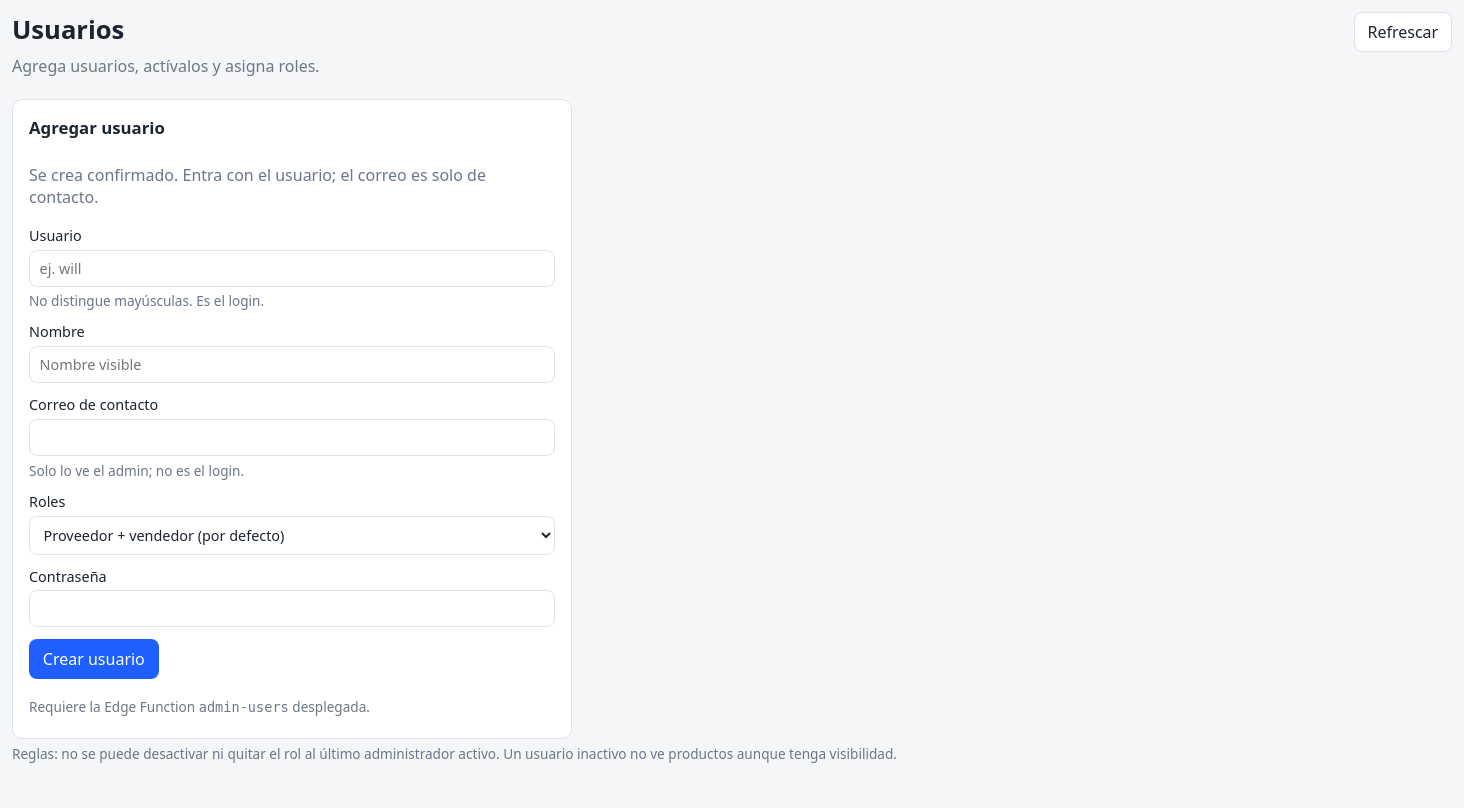
Test: AdminUsuarios.crearUsuario › muestra el detalle de un FunctionsHttpError
The image size is (1464, 808).
Expected: the heading "Agregar usuario" is shown, [29,116,165,139]
Type "will4" into the field labelled "Usuario No distingue mayúsculas. Es el login." at (292, 268), box [29,250,555,287]
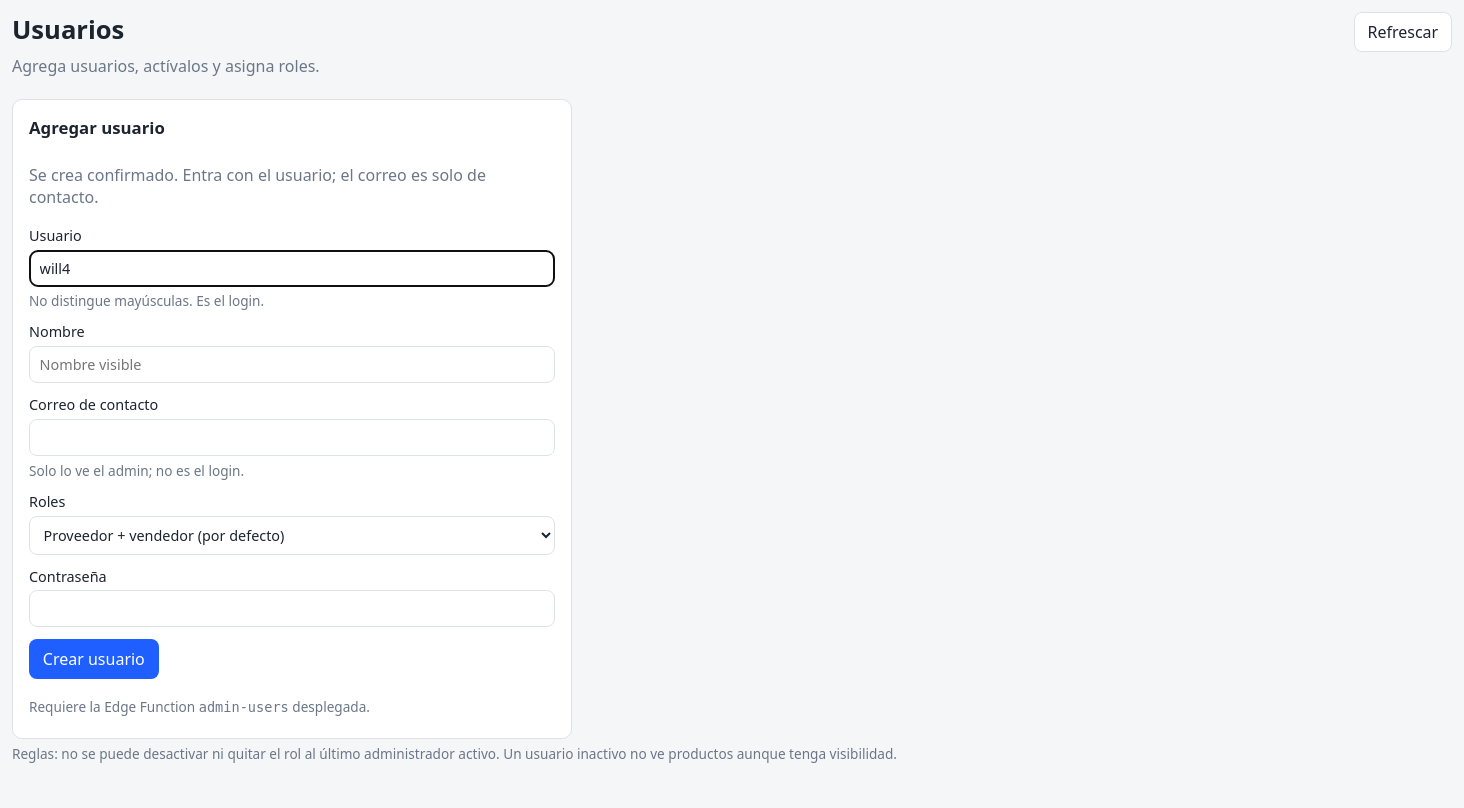
Type "Will Cuatro" into the field labelled "Nombre" at (292, 365), box [29,346,555,383]
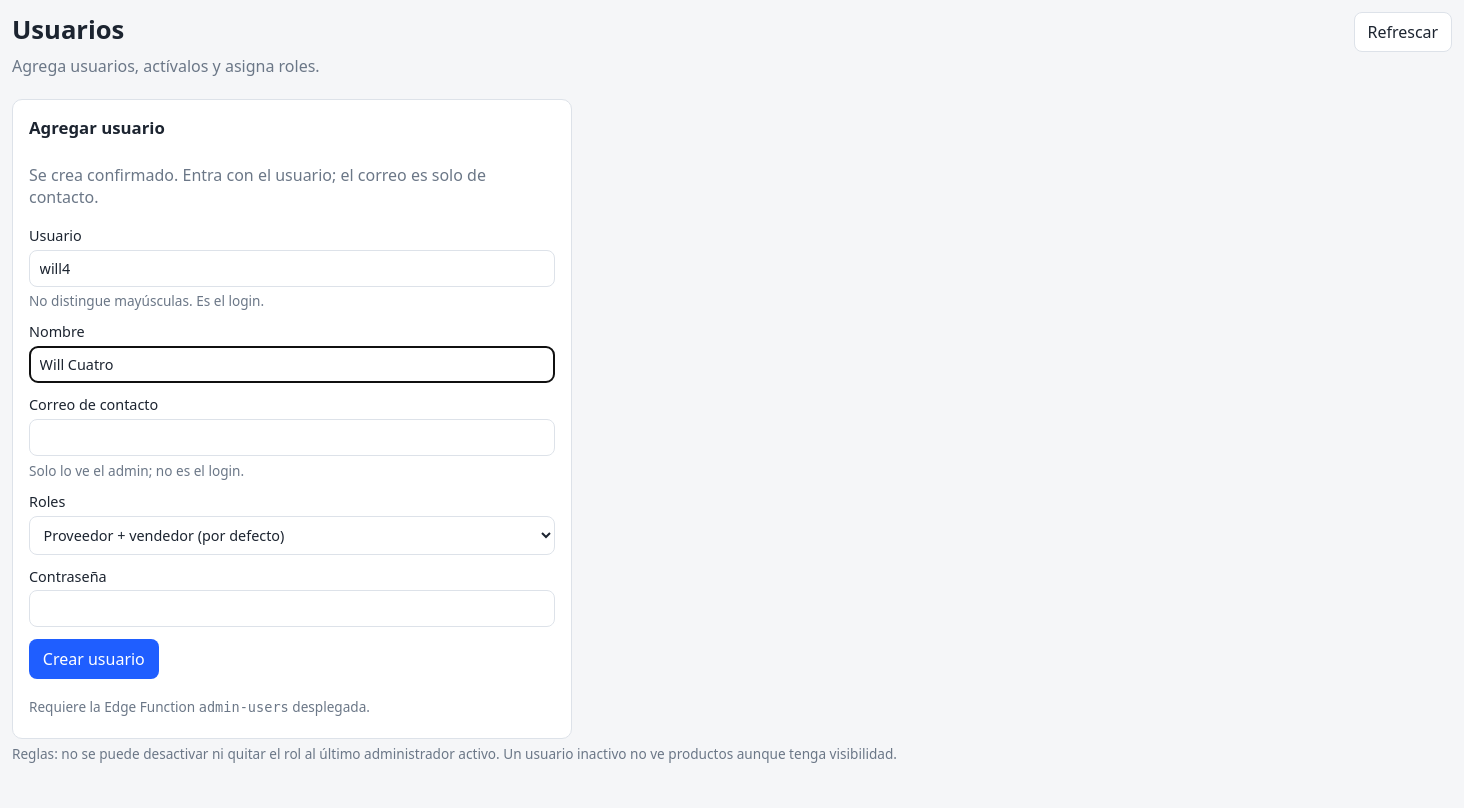
Type "will4@example.com" into the field labelled "Correo de contacto Solo lo ve el admin; no es el login." at (292, 438), box [29,419,555,456]
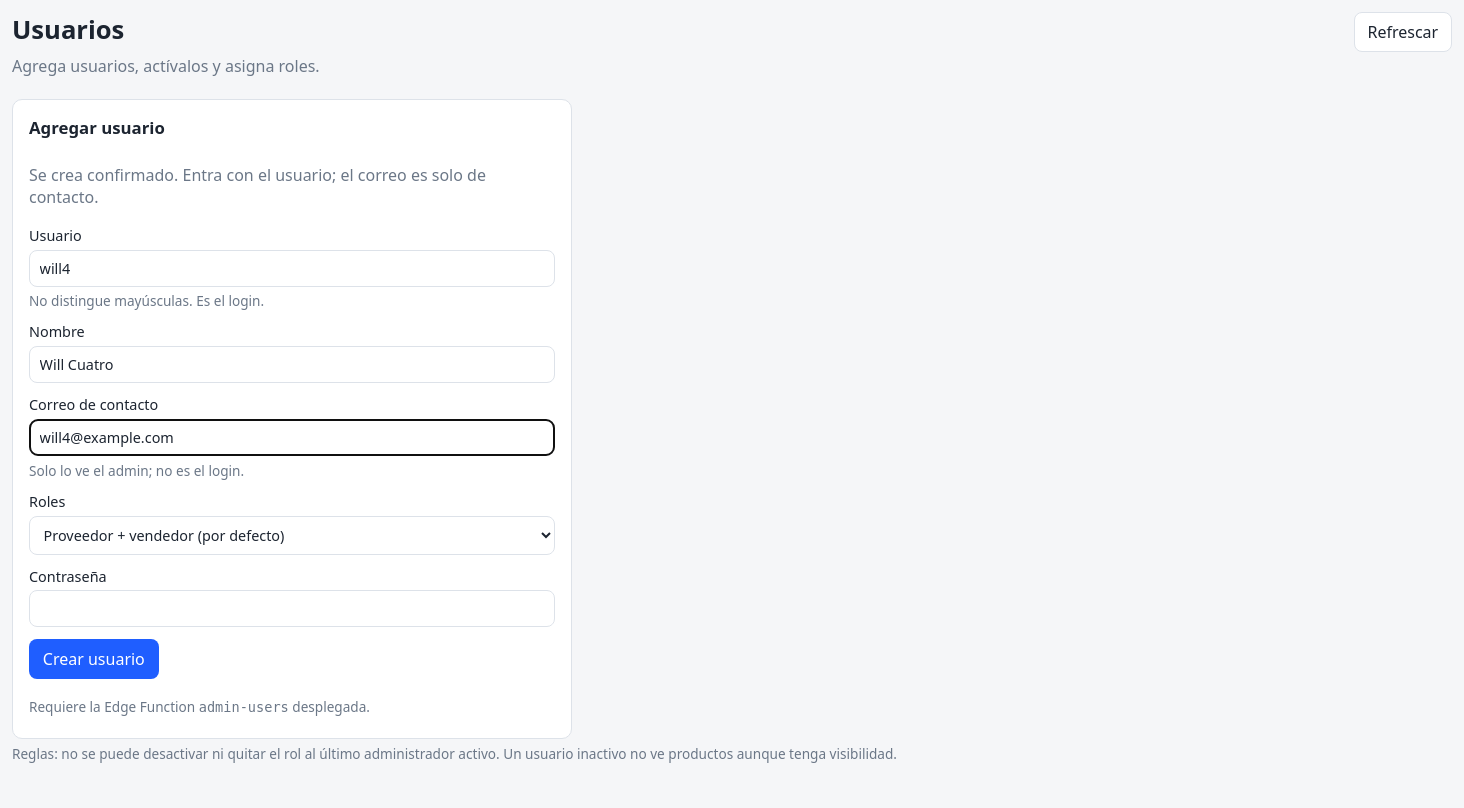
Type "Secreta123" into the password field labelled "Contraseña" at (292, 609), box [29,590,555,627]
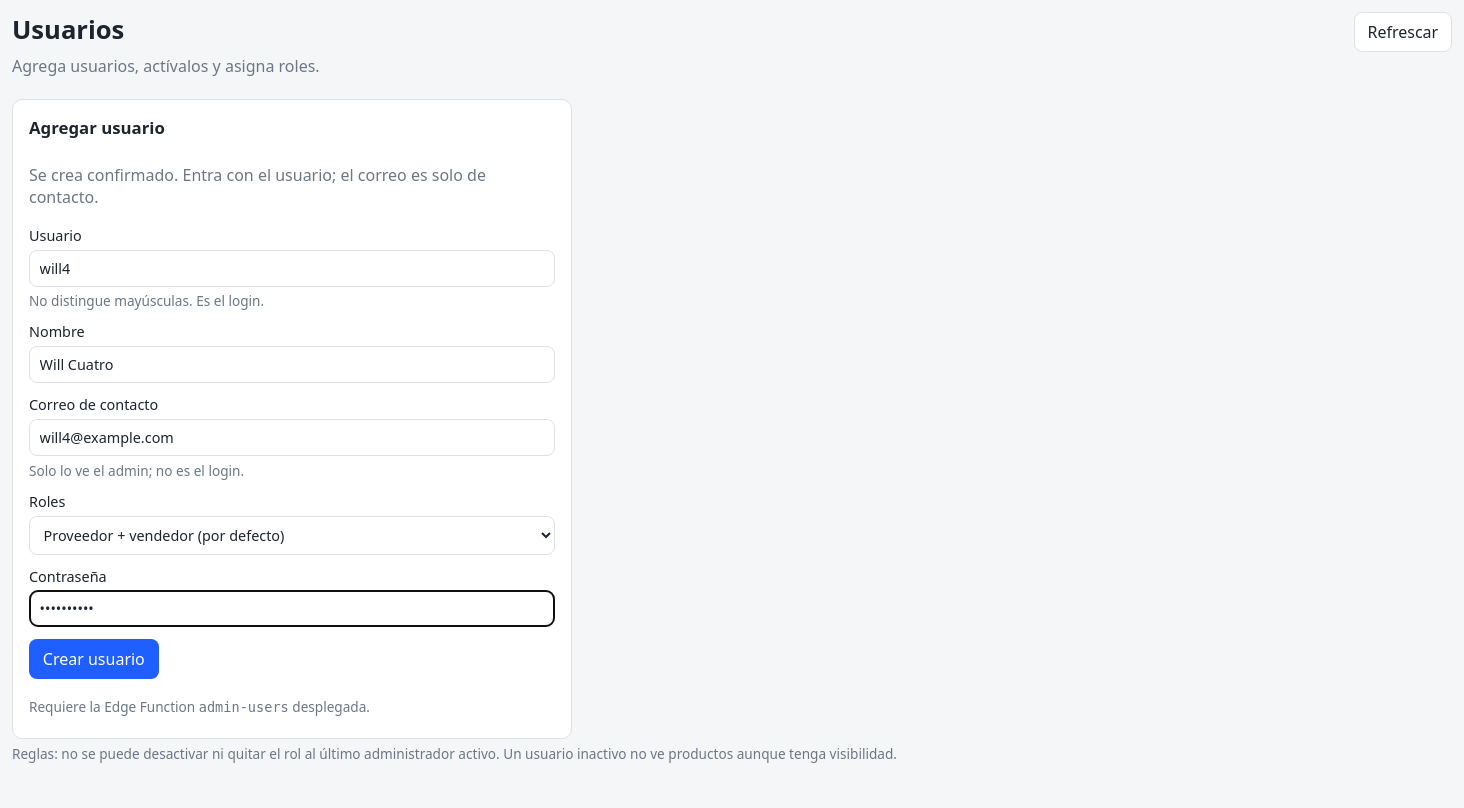
Click the button "Crear usuario" at (94, 659), box [29,639,159,679]
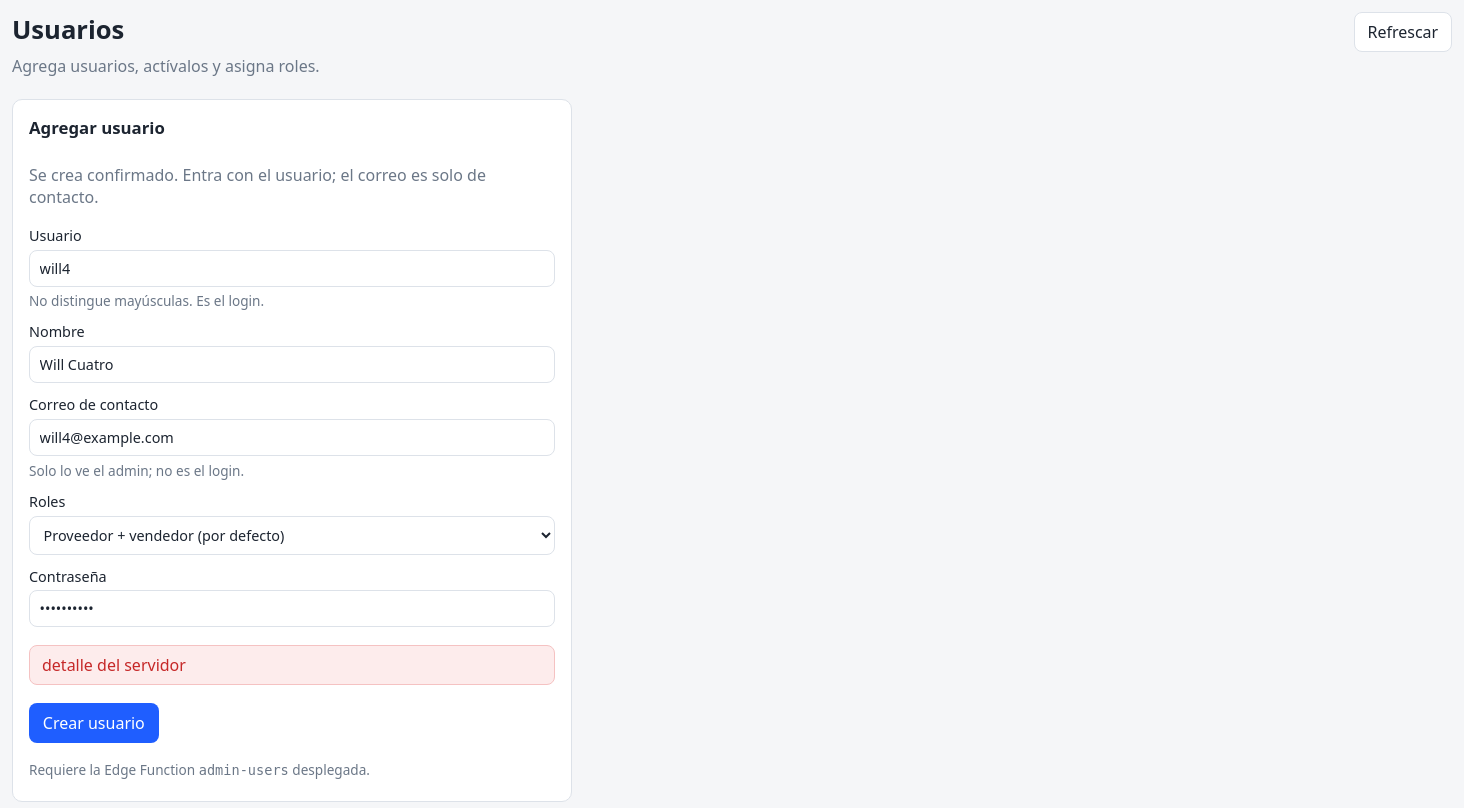
Now the text "detalle del servidor" is shown, box [29,645,555,685]
